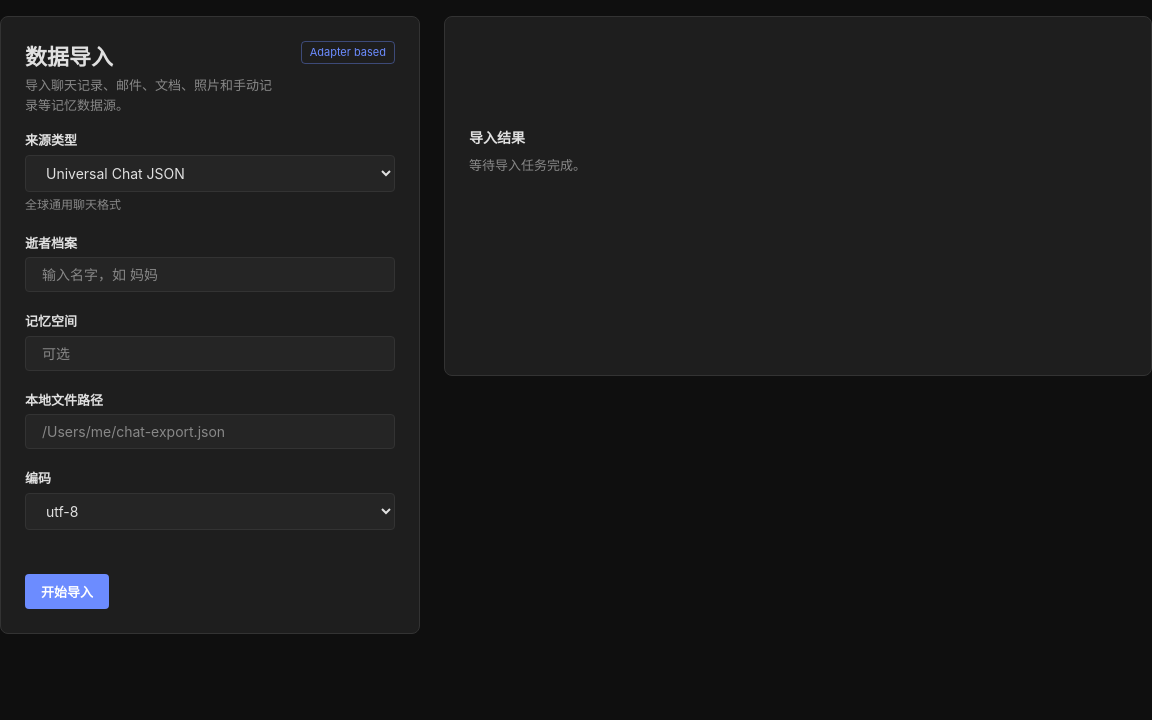
Import page › imports a universal chat file and renders import metrics
Type "妈妈" into the field labelled "逝者档案" at (210, 274), box [25,257,395,292]
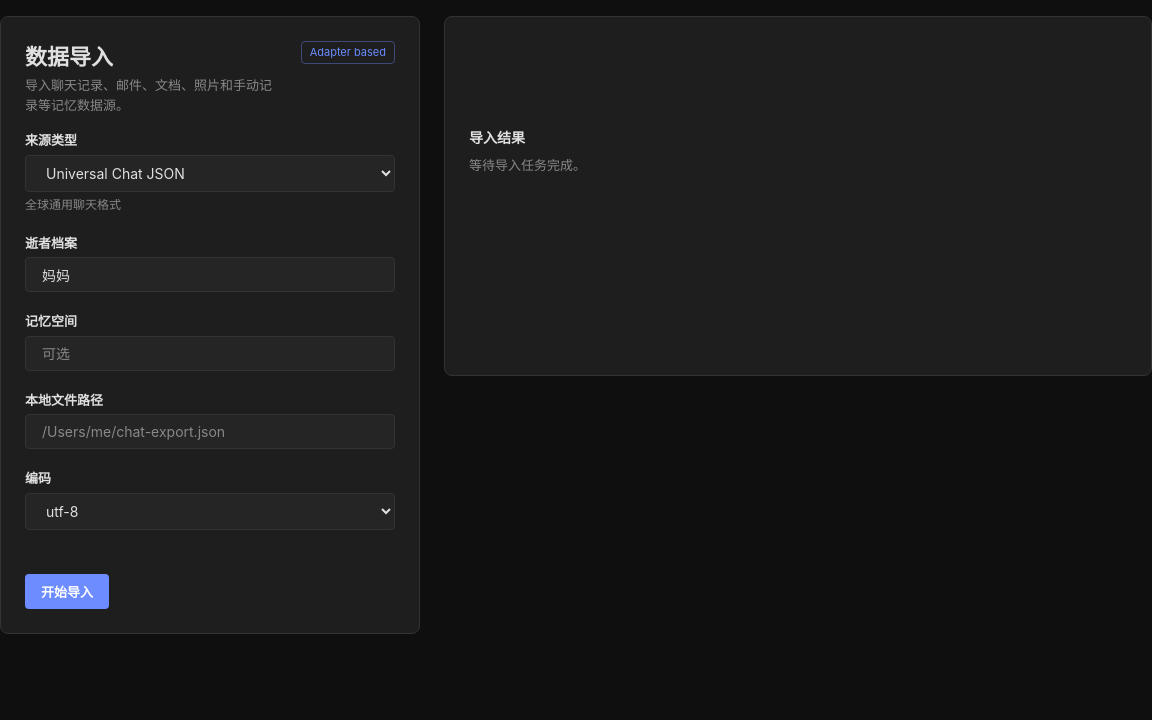
Type "/tmp/universal-chat.json" into the field labelled "本地文件路径" at (210, 432), box [25,414,395,449]
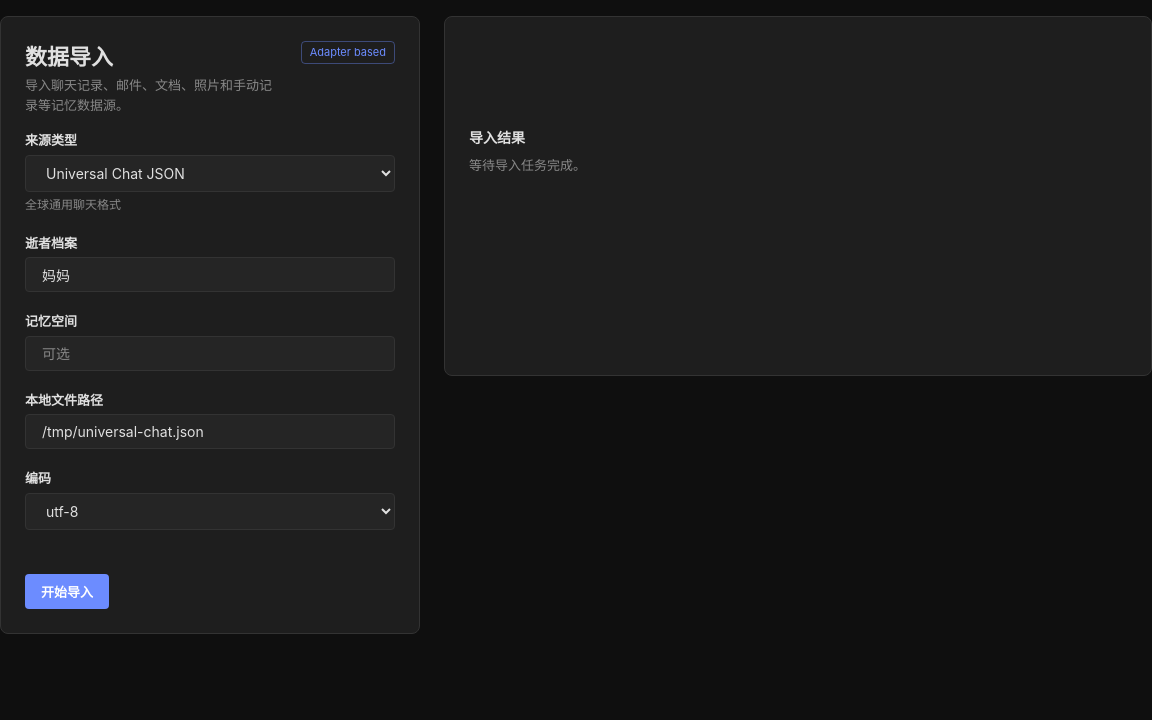
Type "scope-family" into the field labelled "记忆空间" at (210, 353), box [25,336,395,370]
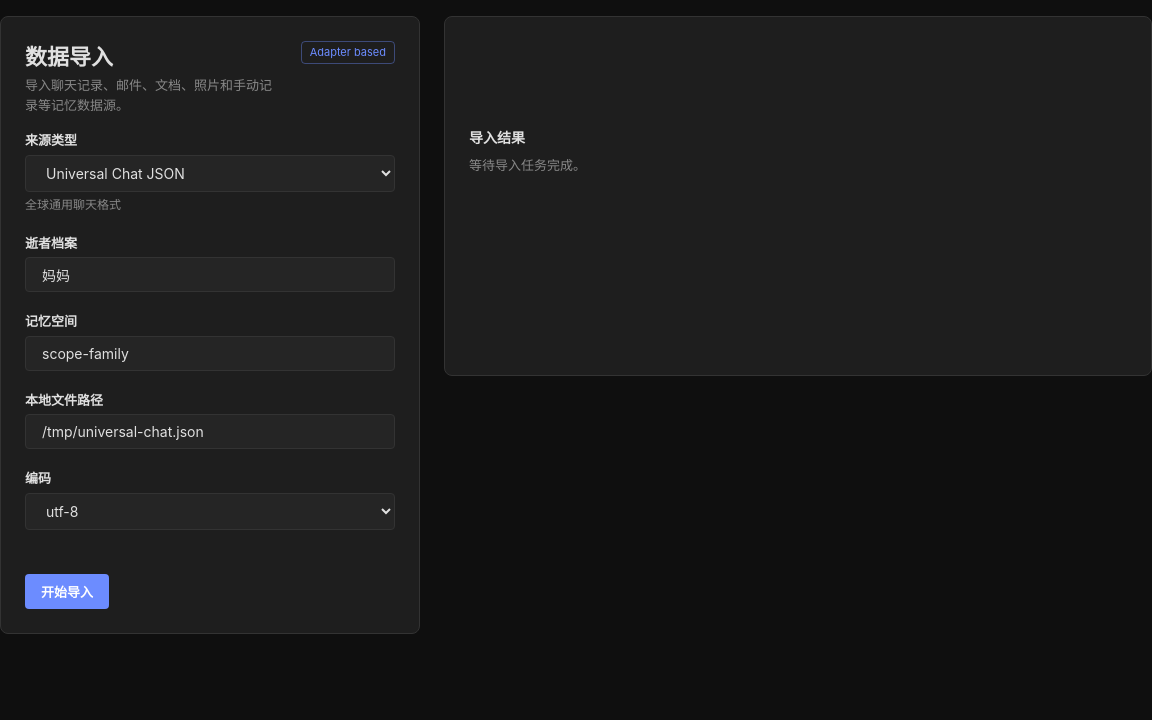
Click the button "开始导入" at (67, 591), box [25,574,109,608]
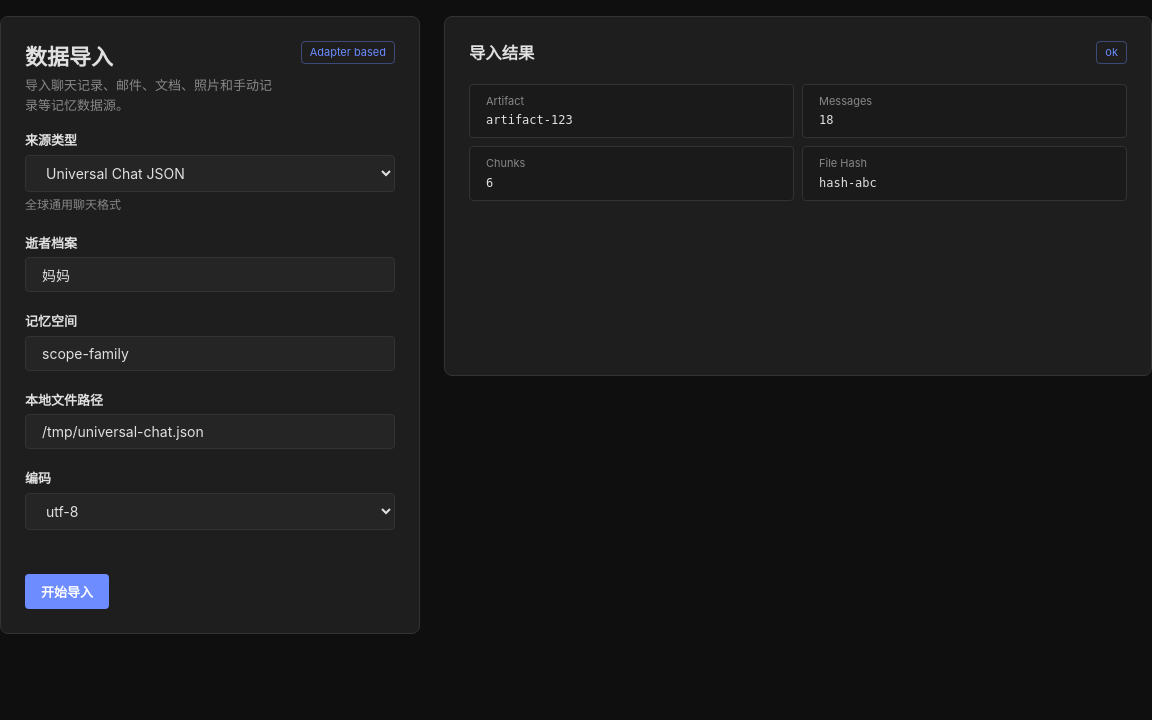
Now the text "artifact-123" is shown, box [486,113,573,127]
Now the text "18" is shown, box [819,113,834,127]
Now the text "6" is shown, box [486,176,493,190]
